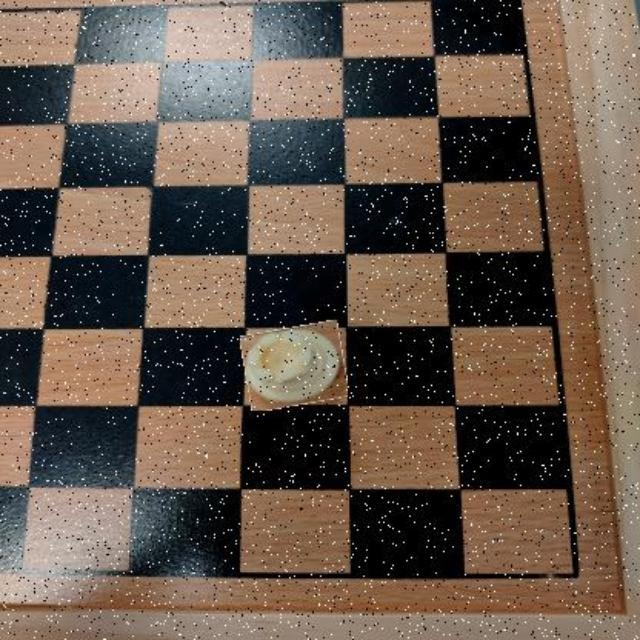white-rook: (243, 324, 347, 408)
